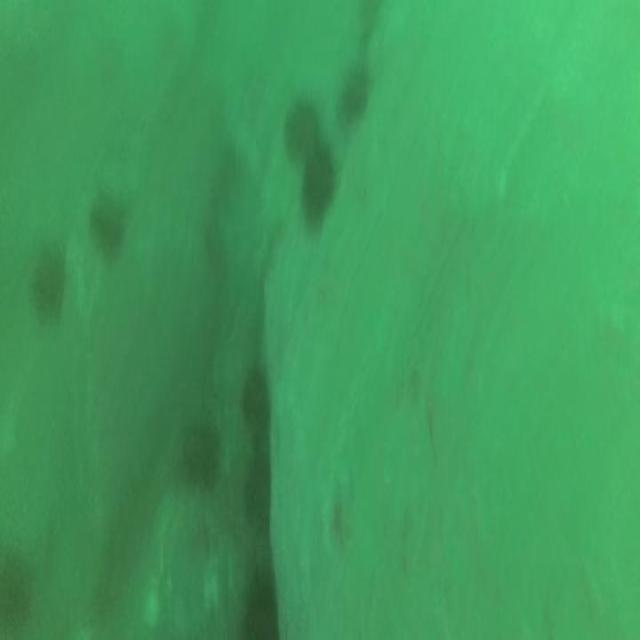echinus: (185, 432, 218, 492), (302, 155, 334, 216), (244, 580, 274, 640), (282, 105, 316, 156), (246, 456, 271, 524), (35, 262, 62, 316), (241, 373, 268, 423), (87, 212, 120, 251), (344, 76, 369, 112)
